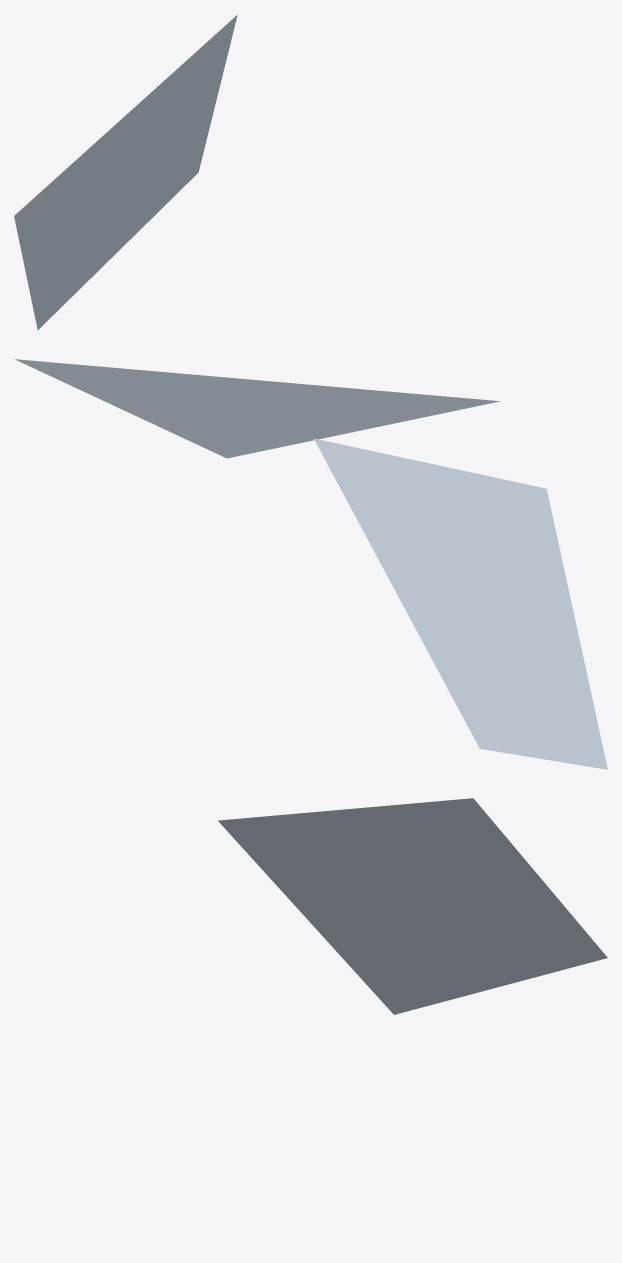
The model's file is plantar-intercuneiform-ligaments-r.glb.
3 renders of one model, top to bottom at view 1: azimuth 30°, elevation 25°; view 2: azimuth 150°, elevation 25°; view 3: azimuth 270°, elevation 25°, orthographic. The views are drawn at different scales.
Parts seen in each view (by area): view 1: Plantar intercuneiform ligaments.r; view 2: Plantar intercuneiform ligaments.r; view 3: Plantar intercuneiform ligaments.r.
Boxes of the visible parts, <box> form: Plantar intercuneiform ligaments.r: <box>14,15,237,330</box>; Plantar intercuneiform ligaments.r: <box>14,359,607,769</box>; Plantar intercuneiform ligaments.r: <box>218,798,607,1014</box>.
Bounding box in the file's own units: 0.0121 × 0.00526 × 0.00719.
